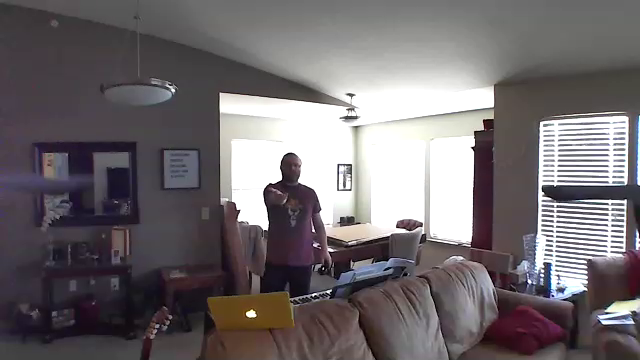land: (265, 184, 290, 200)
